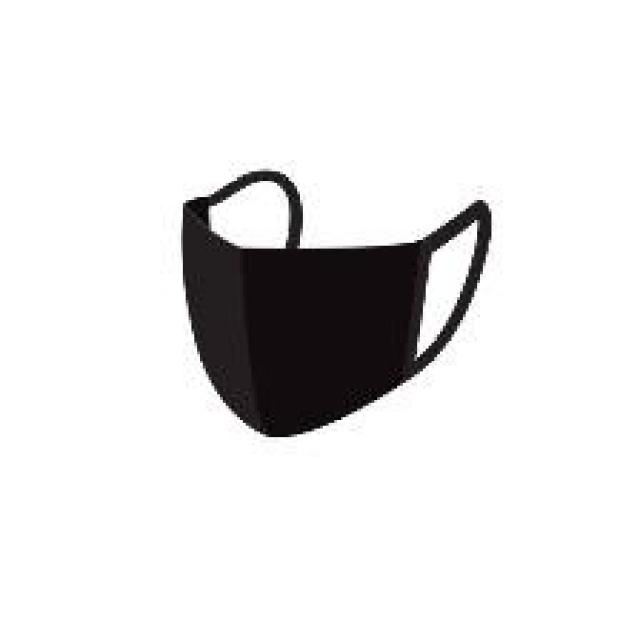Mask: (145, 102, 517, 484)
